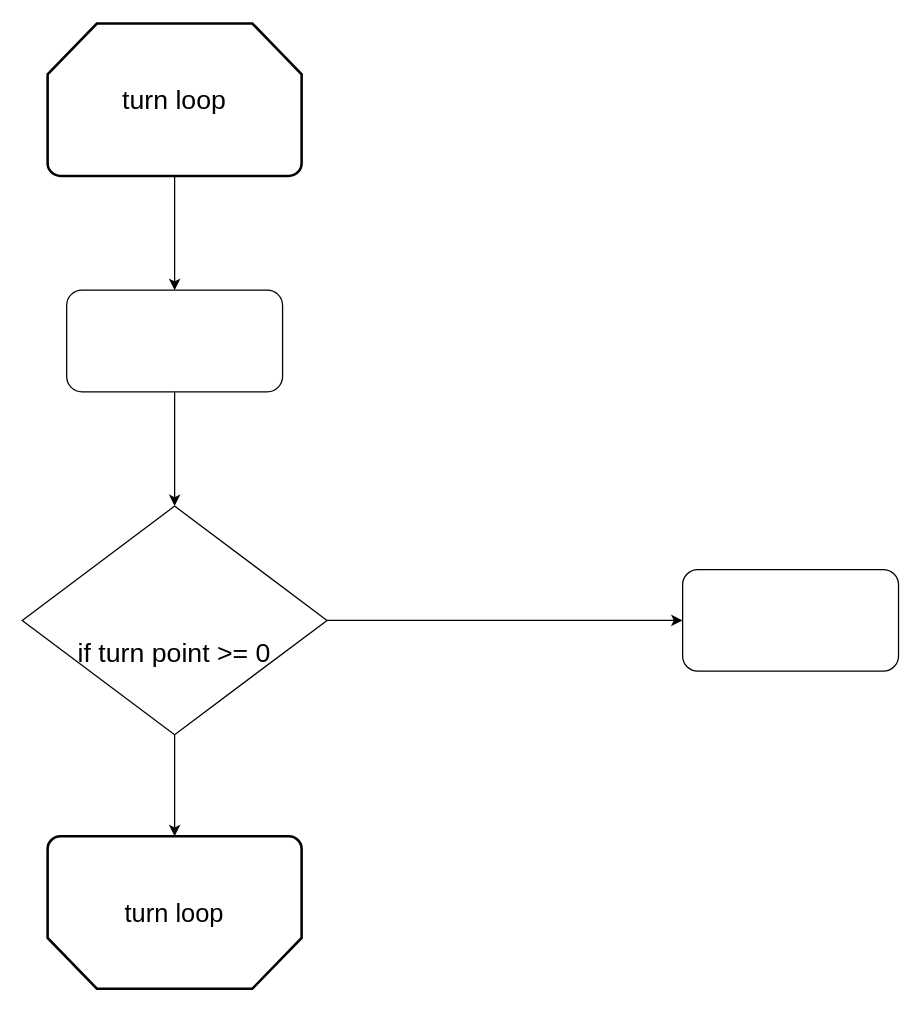
Image size: 921x1011. Some labels were removed from this diagram. Here are the shapes that lost their labels. From the top down, the centre of each, then its label:
(x=174, y=340): next turn
(x=790, y=619): next actor
